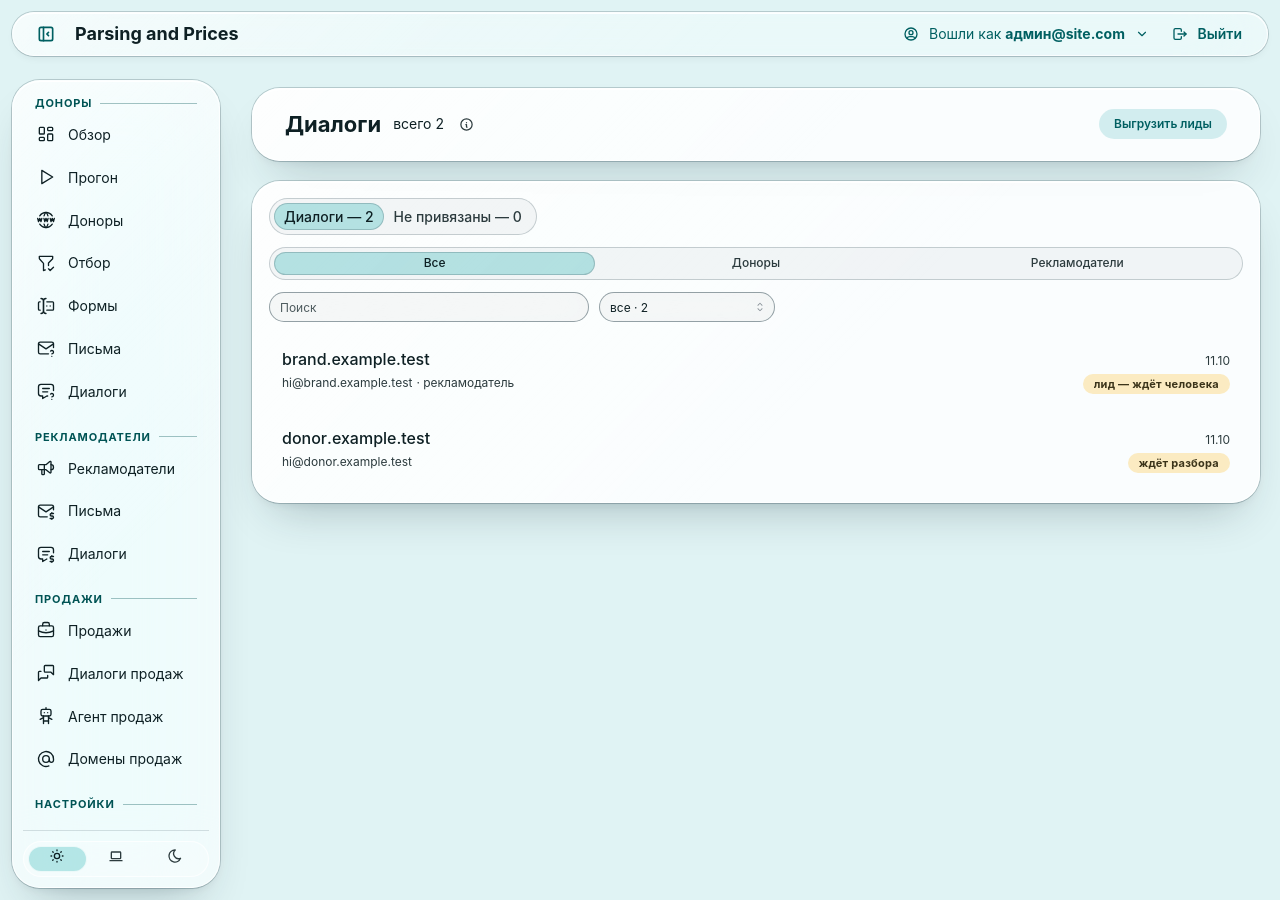
Test: кому писали: доноры и рекламодатели › переключатель сужает список и пишет себя в адрес; «Все» — снова все
The width and height of the screenshot is (1280, 900).
Expected: the navigation bar named "Разделы" is shown, [0,68,232,899]
Expected: the text "brand.example.test" is shown, [282,347,430,372]
Click the 1st radio button labelled "Рекламодатели": (1077, 263) [1031,256,1124,270]
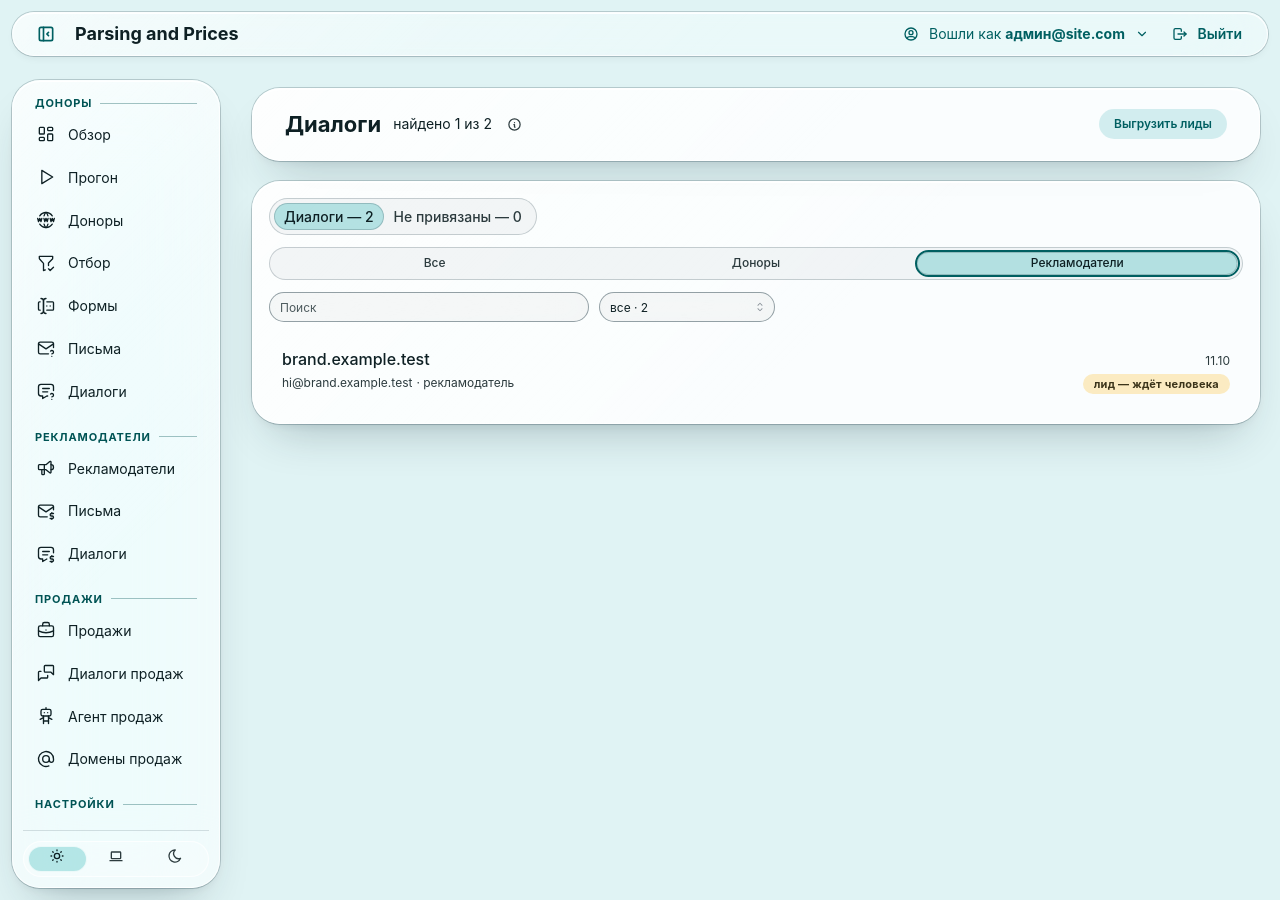
Expected: the text "brand.example.test" is shown, [282,347,430,372]
Expected: the link "donor.example.test" is gone
Expected: the text "найдено 1 из 2" is shown, [393,114,492,134]
Click the 1st radio button labelled "Все": (435, 263) [424,256,446,270]
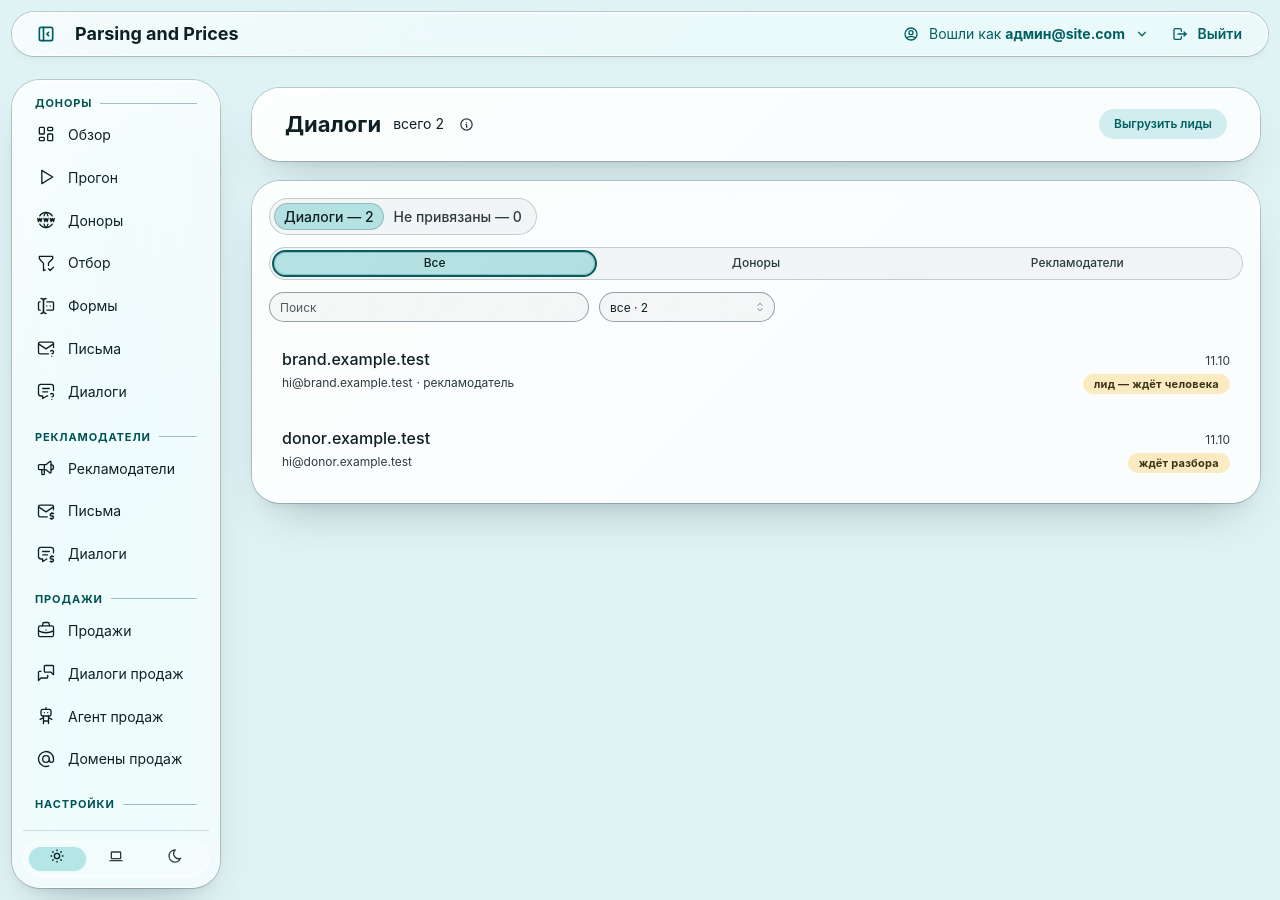
Expected: the text "donor.example.test" is shown, [282,426,430,451]
